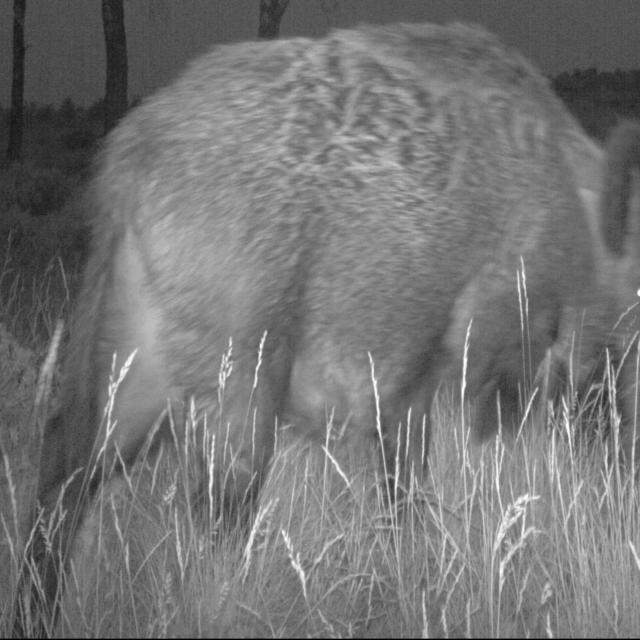pig: (48, 2, 640, 504)
